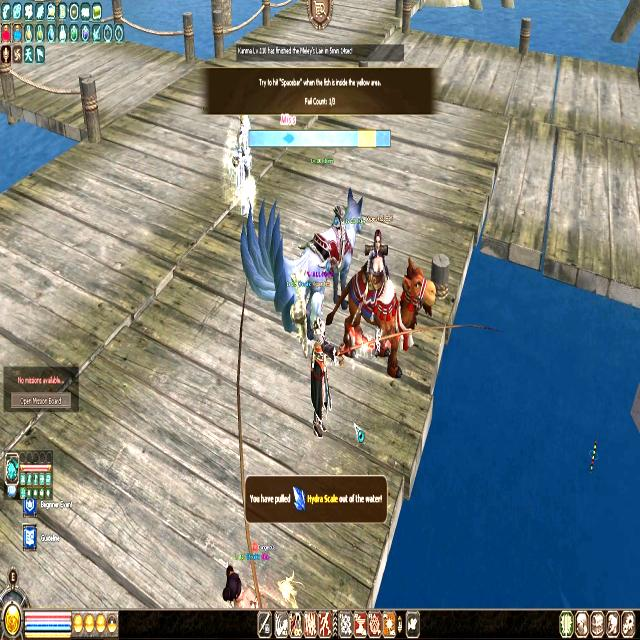fishes: (282, 131, 294, 145)
